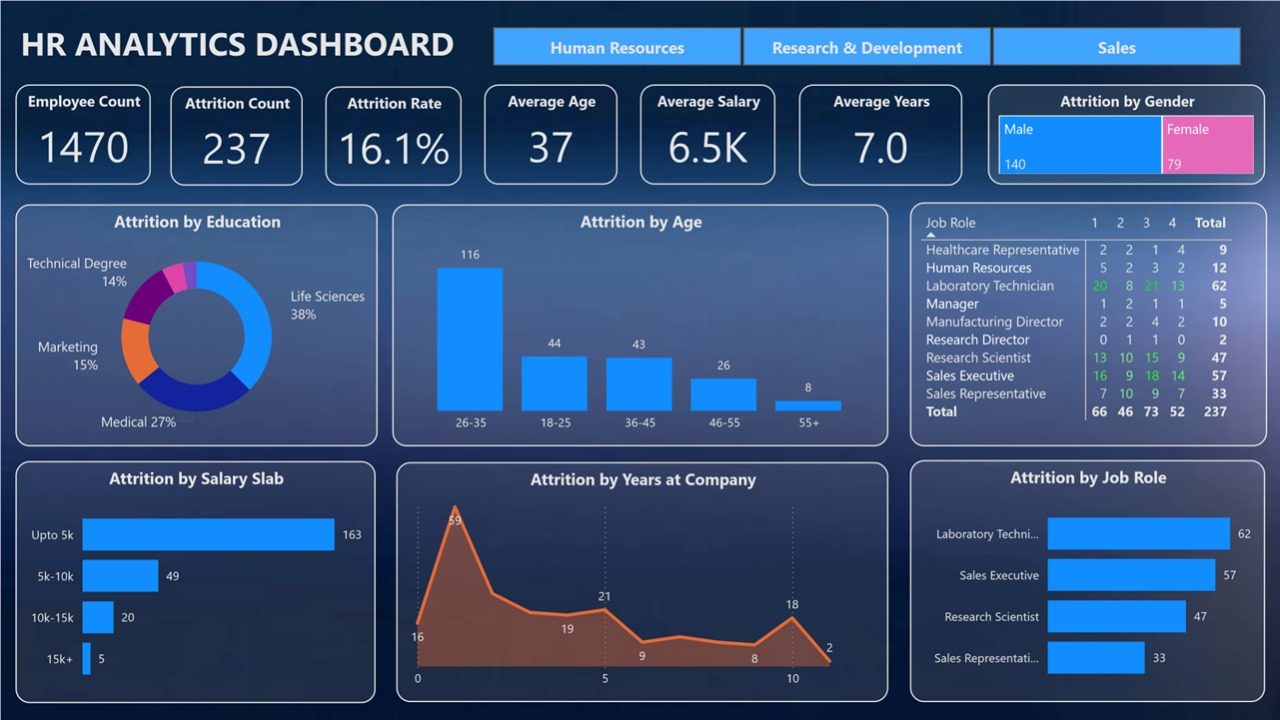

What the dashboard file says about the page in this screenshot:
{"tool":"powerbi","page":{"name":"Page 1","canvas":[1280,720],"ordinal":0},"visuals":[{"type":"card","title":"Employee Count","fields":{"Values":["CountNonNull(HR_Analytics.EmpID)"]},"box":[15.3,84.2,134.7,99.5],"z":0},{"type":"card","title":"Attrition Count","fields":{"Values":["Sum(HR_Analytics.AttritionCount)"]},"box":[170,85.7,131.7,99.5],"z":1000},{"type":"card","title":"Average Age","fields":{"Values":["Avg(HR_Analytics.Age)"]},"box":[483.8,84.2,133.2,99.5],"z":2000},{"type":"card","title":"Attrition Rate","fields":{"Values":["HR_Analytics.AttritionRate"]},"box":[324.6,85.7,136.3,99.5],"z":3000},{"type":"card","title":"Average Salary","fields":{"Values":["Avg(HR_Analytics.MonthlyIncome)"]},"box":[640,84.2,134.7,99.5],"z":4000},{"type":"card","title":"Average Years","fields":{"Values":["Avg(HR_Analytics.YearsAtCompany)"]},"box":[799.2,84.2,162.3,101.1],"z":5000},{"type":"donutChart","title":"Attrition by Education","fields":{"Category":["HR_Analytics.EducationField"],"Y":["Sum(HR_Analytics.AttritionCount)"]},"box":[15.5,204.2,362,242.3],"z":6000},{"type":"columnChart","title":"Attrition by Age","fields":{"Category":["HR_Analytics.AgeGroup"],"Y":["Sum(HR_Analytics.AttritionCount)"]},"box":[392.3,203.8,496.2,242.3],"z":7000},{"type":"pivotTable","fields":{"Rows":["HR_Analytics.JobRole"],"Columns":["HR_Analytics.JobSatisfaction"],"Values":["Sum(HR_Analytics.AttritionCount)"]},"box":[909.6,201.9,357.7,244.2],"z":8000},{"type":"barChart","title":"Attrition by Salary Slab","fields":{"Category":["HR_Analytics.Salary Slab"],"Y":["Sum(HR_Analytics.AttritionCount)"]},"box":[15.5,460.6,359.2,242.3],"z":9000},{"type":"barChart","title":"Attrition by Job Role","fields":{"Category":["HR_Analytics. Job Role"],"Y":["Sum(HR_Analytics.AttritionCount)"]},"box":[909.6,459.6,355.8,242.3],"z":10000},{"type":"areaChart","title":"Attrition by Years at Company","fields":{"Category":["HR_Analytics.Years At Company"],"Y":["Sum(HR_Analytics.AttritionCount)"]},"box":[396.2,461.5,492.3,240.4],"z":11000},{"type":"treemap","title":"Attrition by Gender","fields":{"Group":["HR_Analytics.Gender"],"Values":["Sum(HR_Analytics.AttritionCount)"]},"box":[987.6,84.2,277.1,99.5],"z":12000},{"type":"slicer","fields":{"Values":["HR_Analytics.Department"]},"box":[467,19.9,797.7,52.1],"z":13000},{"type":"textbox","box":[15.5,15.5,521.1,56.3],"z":14000}]}

Visuals, with their boxes in screenshot pixels (x1, y1, x2, y2), scaled from the page's 1280x720 canvas onto the 1280x720 screenshot:
"Employee Count" card: <box>15,84,150,184</box>
"Attrition Count" card: <box>170,86,302,185</box>
"Average Age" card: <box>484,84,617,184</box>
"Attrition Rate" card: <box>325,86,461,185</box>
"Average Salary" card: <box>640,84,775,184</box>
"Average Years" card: <box>799,84,962,185</box>
"Attrition by Education" donutChart: <box>16,204,378,446</box>
"Attrition by Age" columnChart: <box>392,204,888,446</box>
pivotTable - HR_Analytics.JobRole x HR_Analytics.JobSatisfaction: <box>910,202,1267,446</box>
"Attrition by Salary Slab" barChart: <box>16,461,375,703</box>
"Attrition by Job Role" barChart: <box>910,460,1265,702</box>
"Attrition by Years at Company" areaChart: <box>396,462,888,702</box>
"Attrition by Gender" treemap: <box>988,84,1265,184</box>
slicer - HR_Analytics.Department: <box>467,20,1265,72</box>
textbox: <box>16,16,537,72</box>
